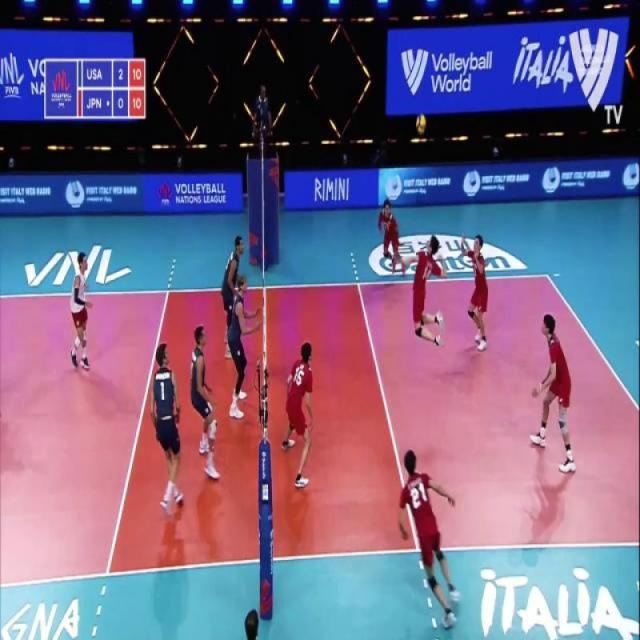volleyball: (413, 112, 429, 136)
